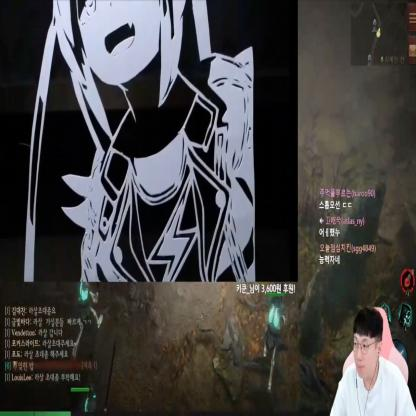donation: (0, 0, 299, 295)
streamer: (329, 306, 416, 416)
